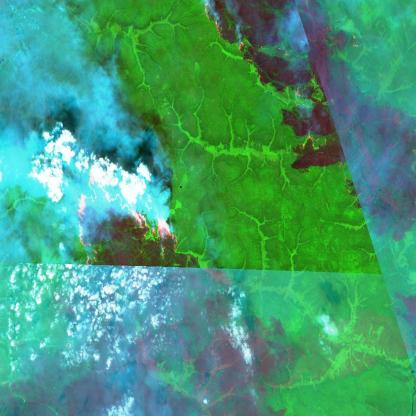fire: (80, 186, 194, 258), (205, 0, 249, 51), (298, 131, 326, 160)
